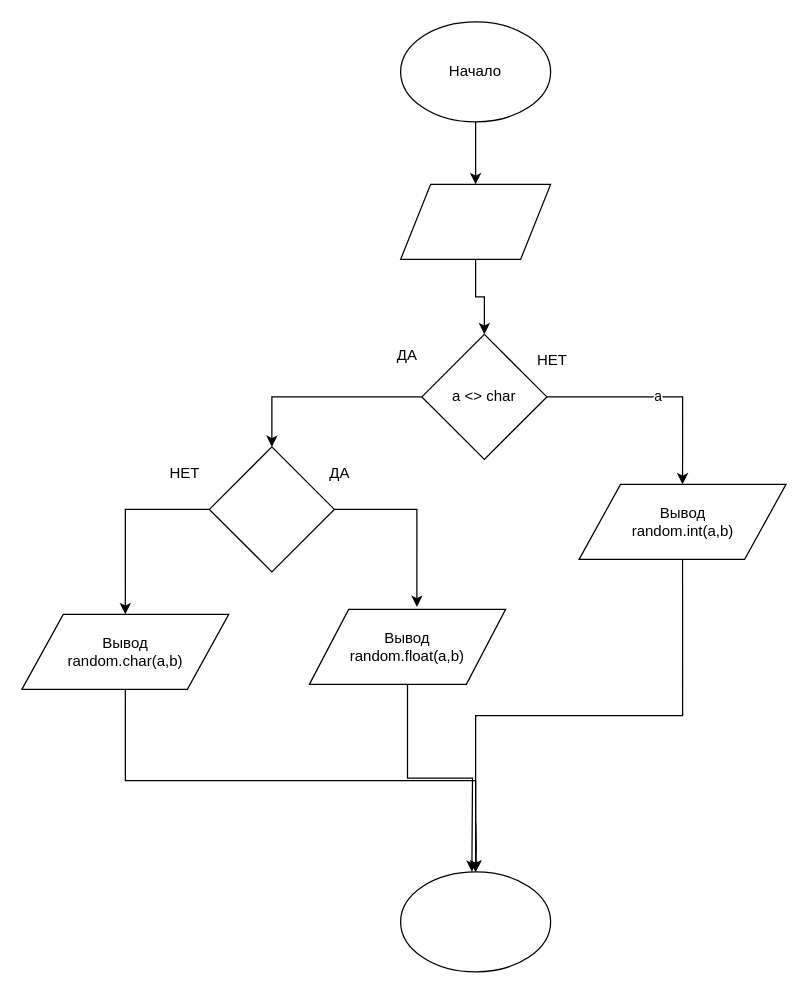
Image size: 809x994. Some labels were removed from this diagram. The box of each missing label's shape, as (x1, y1, x2, y2) in pixels:
a содержит символ '.': (208, 446, 334, 572)
Ввод a, b: (399, 183, 551, 259)
Конец: (399, 871, 551, 972)
